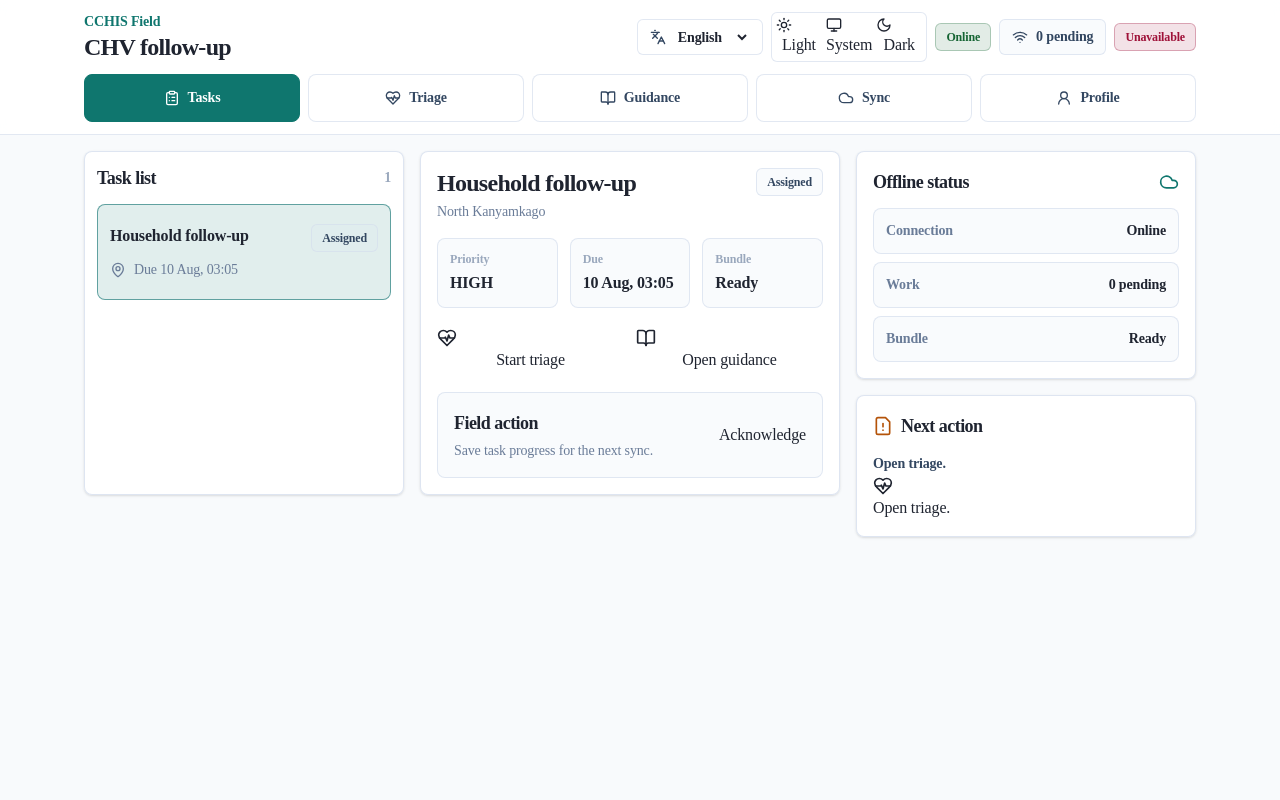
Test case: ChvOfflinePage › shows rejected work when online sync is refused
Expected: the heading "CHV follow-up" is shown, [84,32,231,62]
Click the button "Start triage" at (530, 350), box [437,328,624,372]
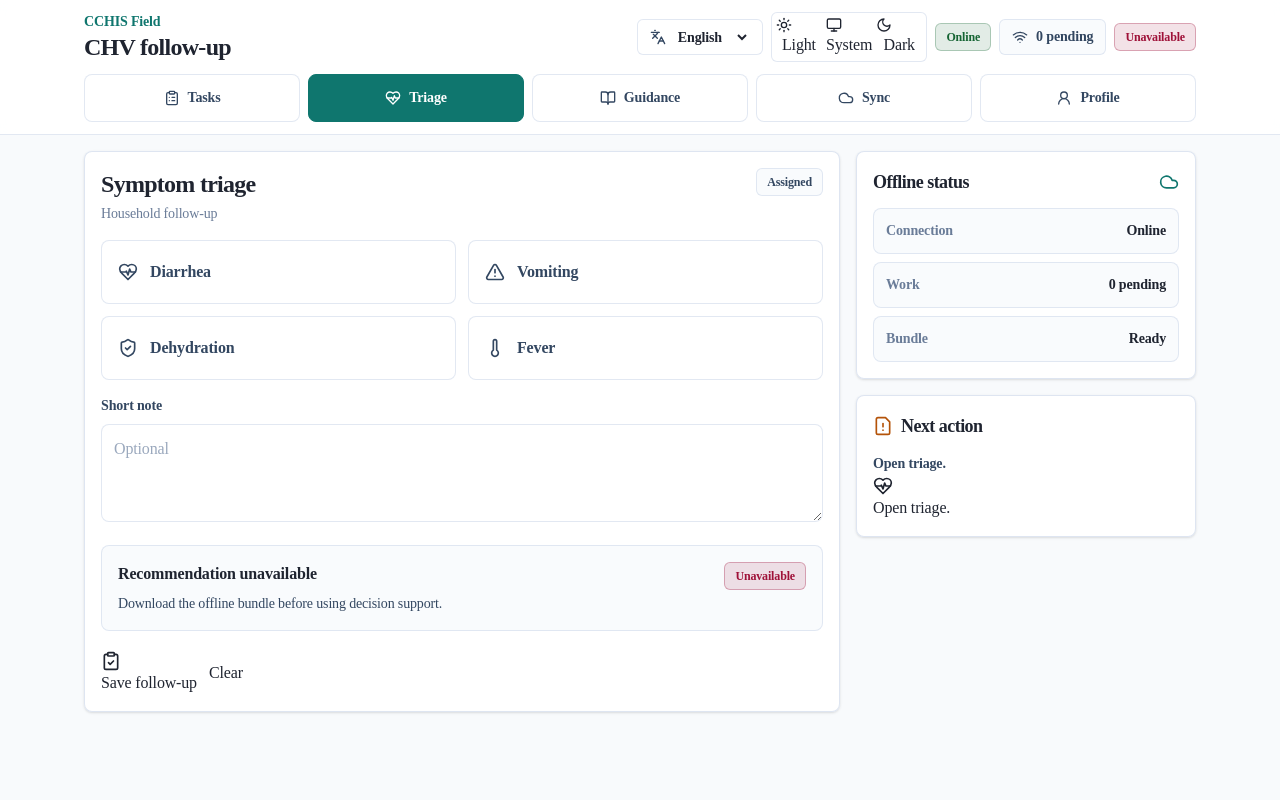
Click the button "Diarrhea" at (180, 272), box [101,240,456,304]
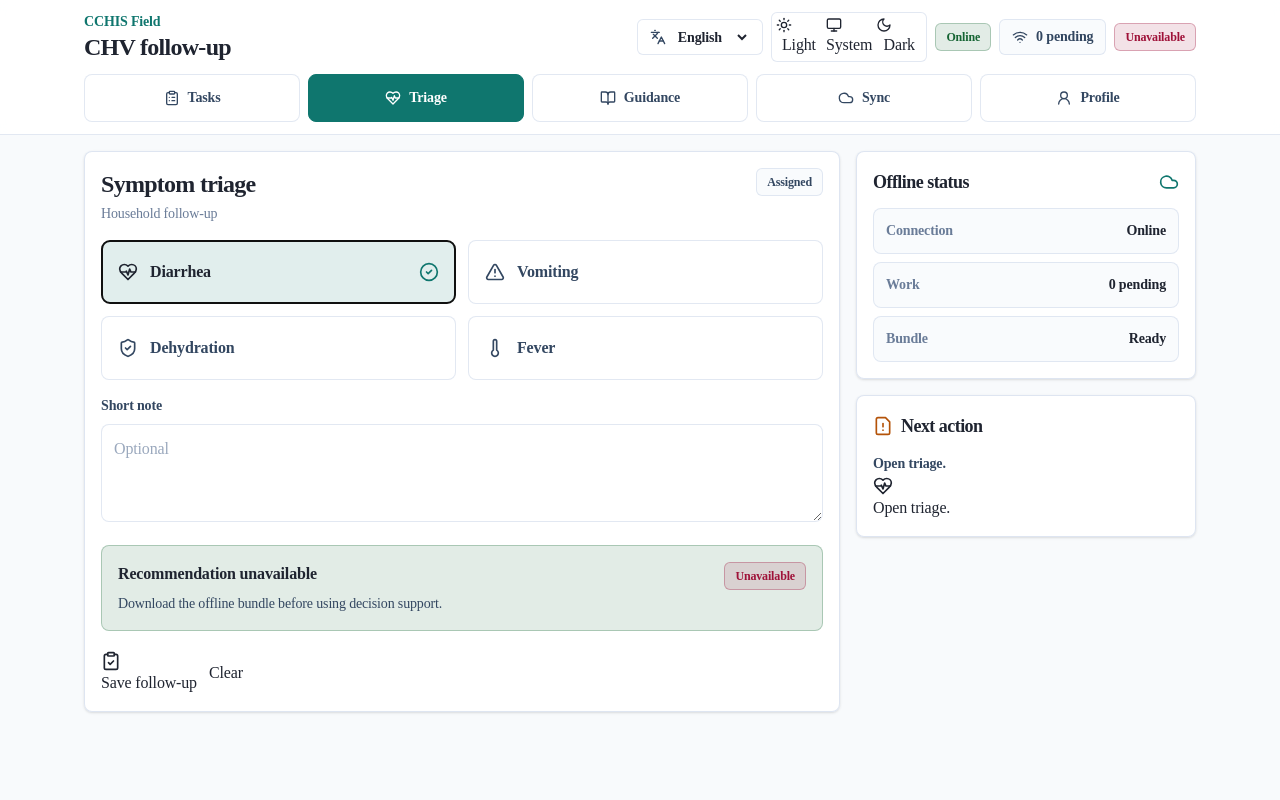
Click the button "Vomiting" at (548, 272), box [468,240,823,304]
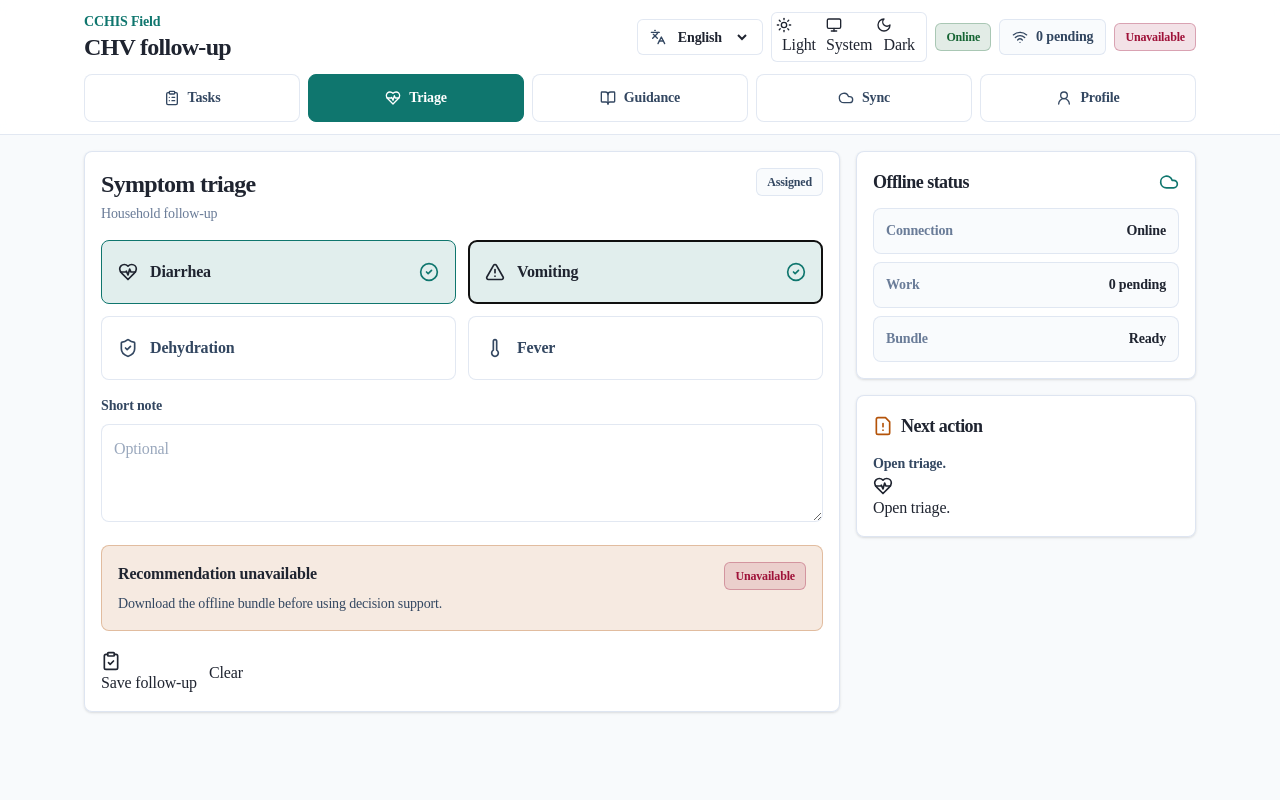
Type "Loose stool and vomiting" into the text box labelled "Short note" at (462, 473), box [101,424,823,522]
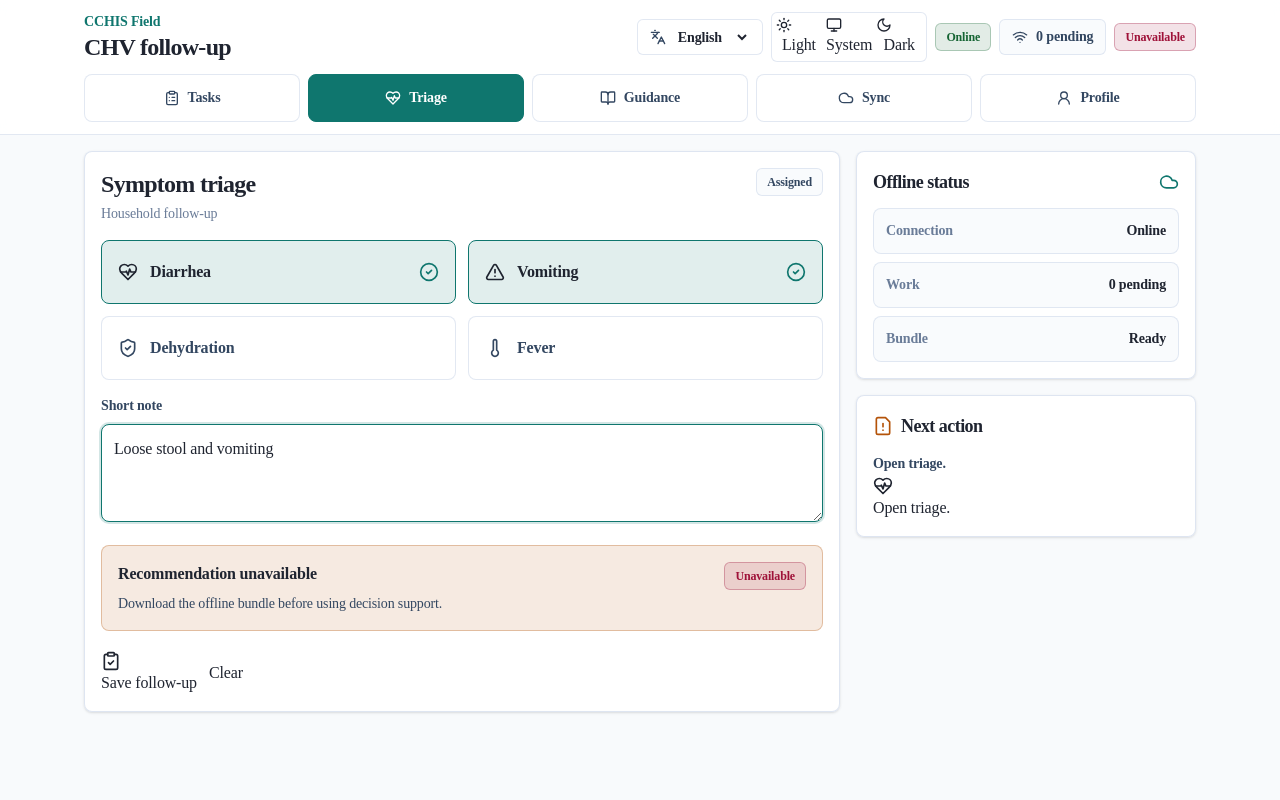
Click the button "Save follow-up" at (149, 673), box [101,651,197,695]
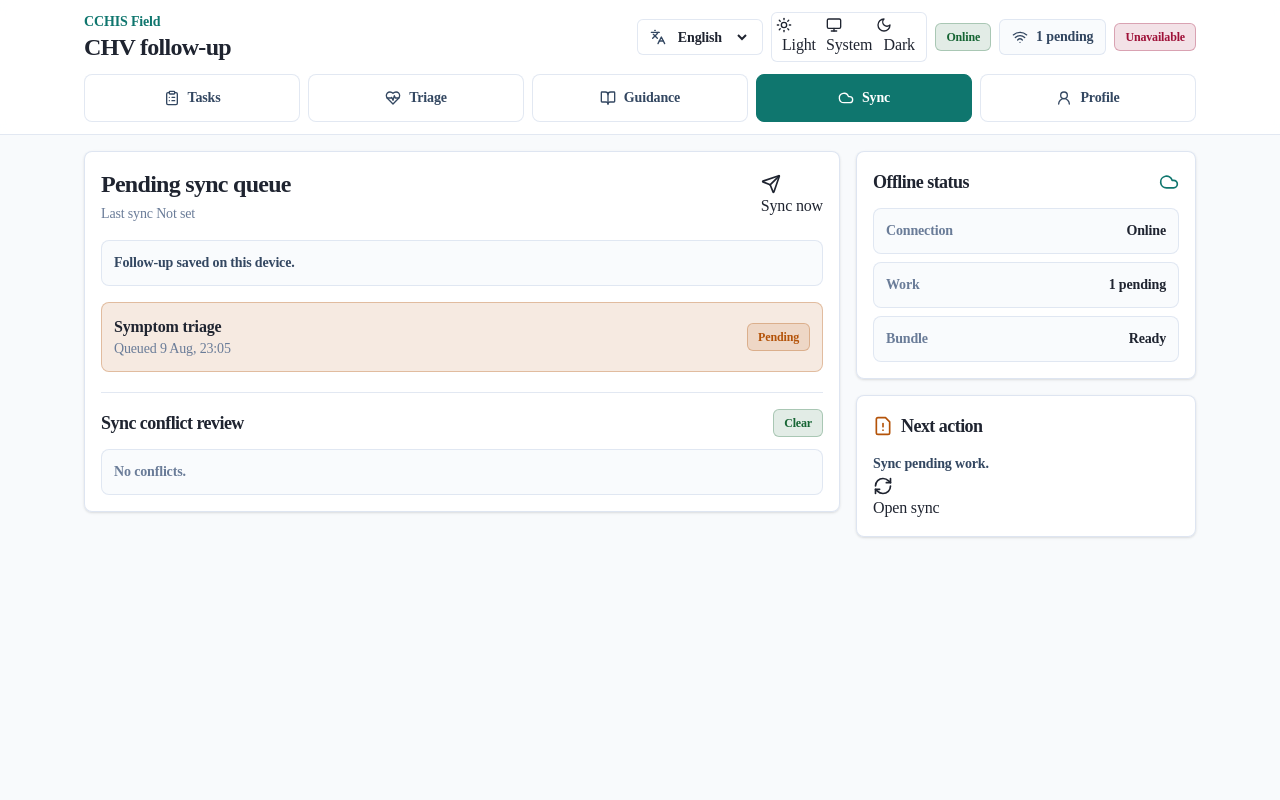
Click the button "Sync now" at (792, 196), box [761,174,823,218]
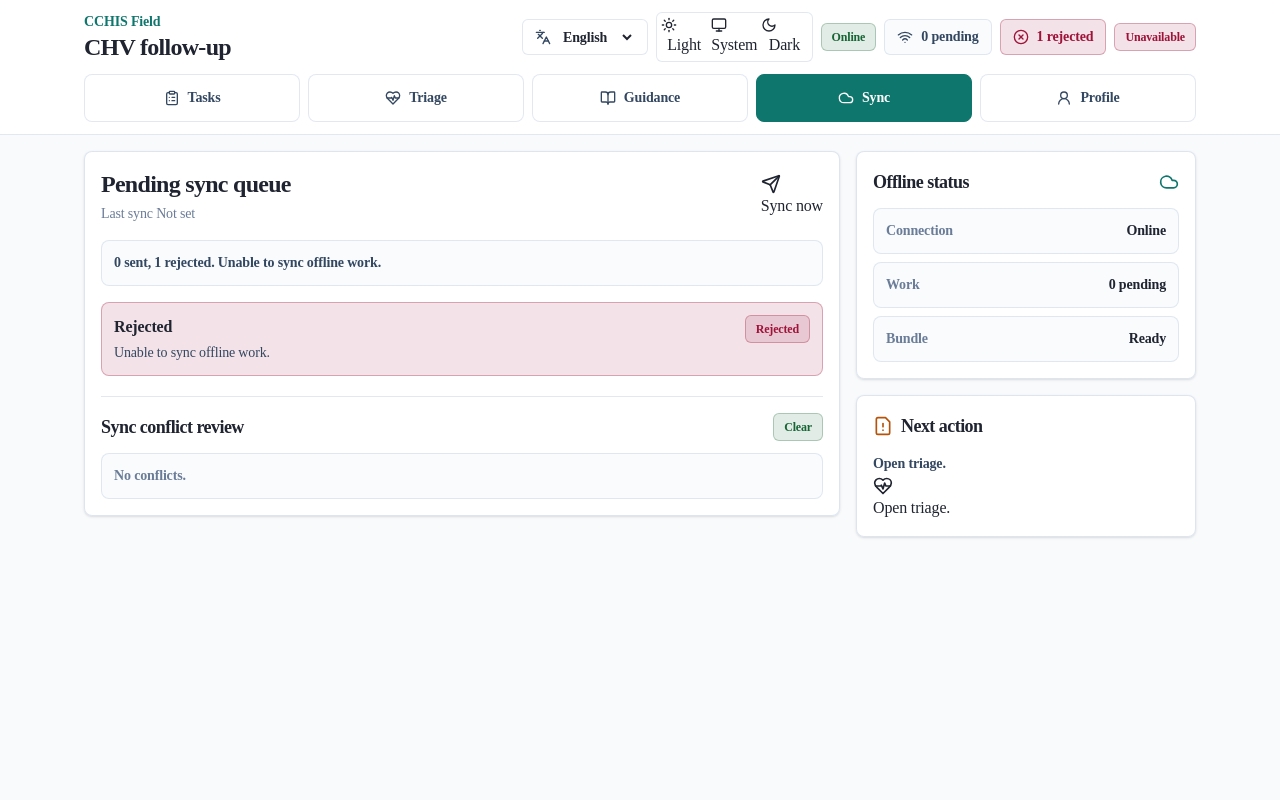
Expected: the text "Unable to sync offline work." is shown, [114,343,270,363]
Expected: the 1st text "Rejected" is shown, [114,318,172,335]
